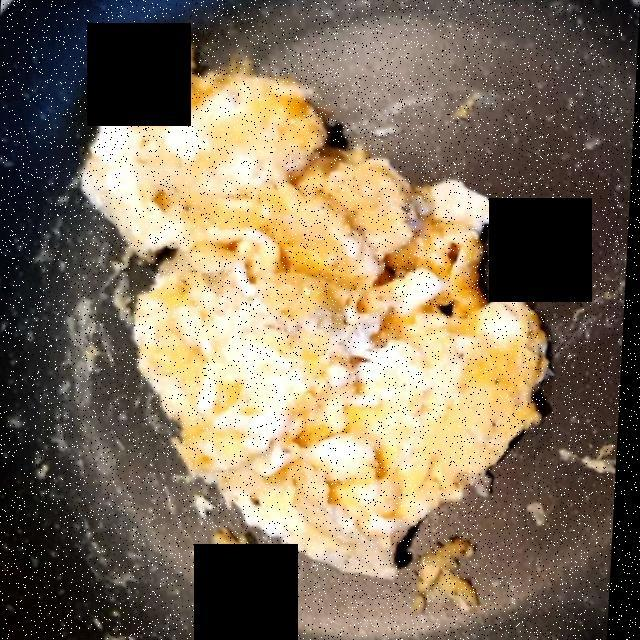eggs: (93, 51, 545, 571)
